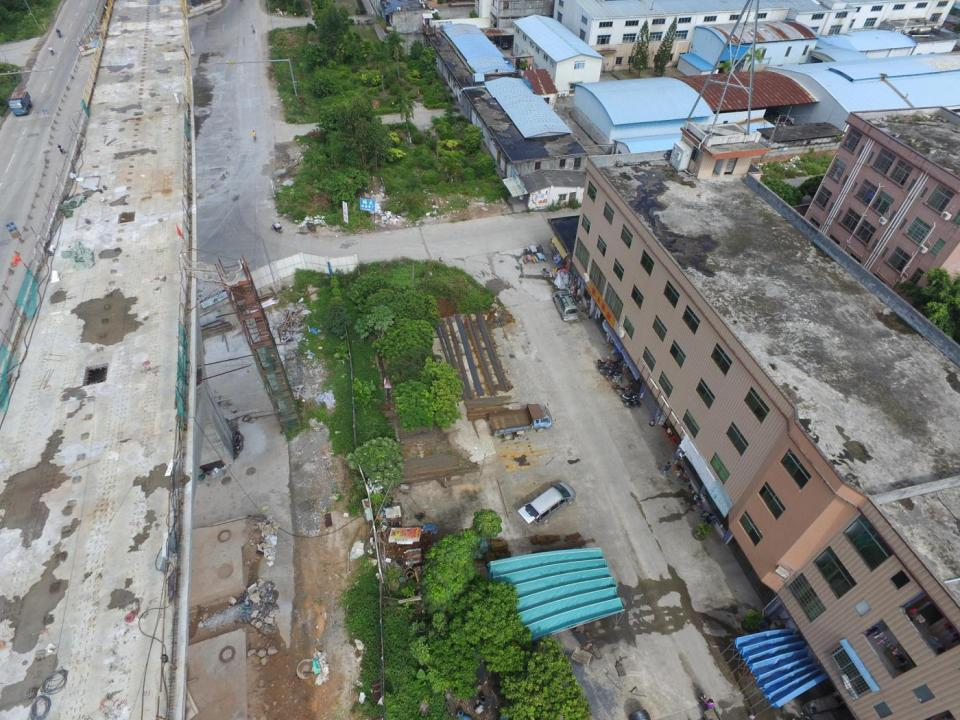car: (499, 40, 510, 49), (488, 40, 496, 50)
truck: (487, 404, 552, 442), (10, 93, 32, 117)
van: (520, 480, 574, 529), (553, 291, 578, 321)
